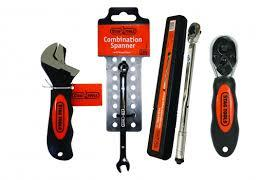wrench: (38, 41, 82, 161)
